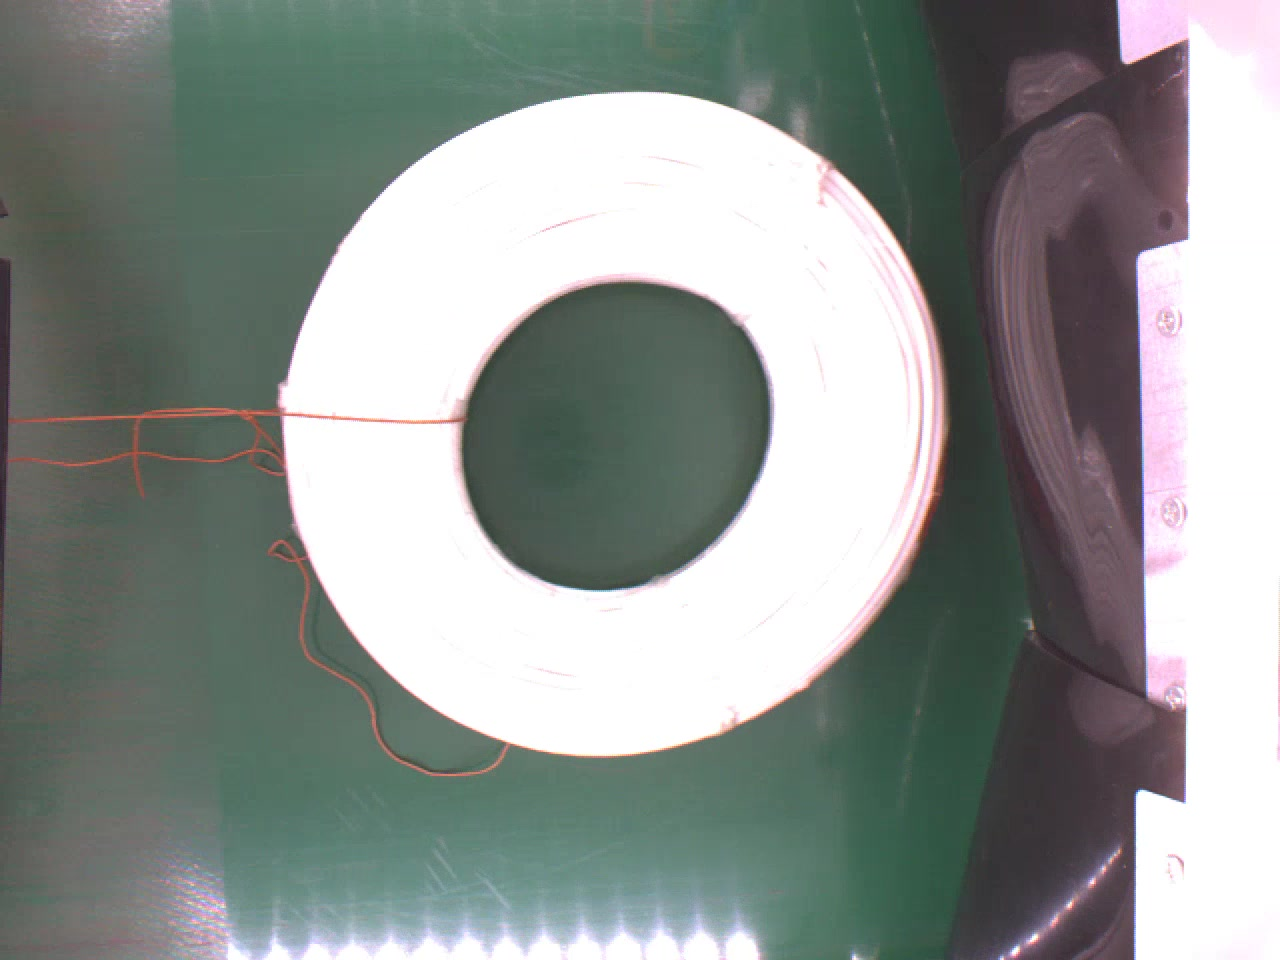white: (266, 88, 948, 761)
